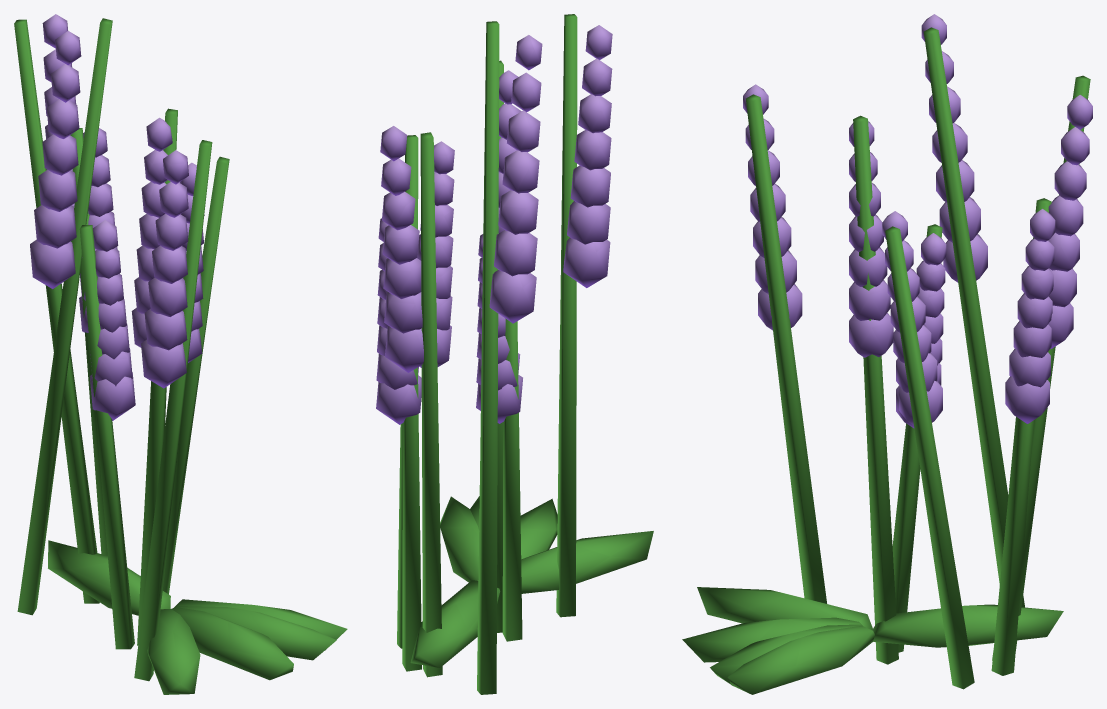
Rendered from flowers_lavender.glb.
3 renders of one model, left to right at view 1: azimuth 30°, elevation 25°; view 2: azimuth 150°, elevation 25°; view 3: azimuth 270°, elevation 25°, orthographic. The views are drawn at different scales.
Visible parts, largest first — view 1: Flowers; view 2: Flowers; view 3: Flowers.
Boxes of the visible parts, x1,y1,x2,y2 form: Flowers: [14, 14, 347, 694]; Flowers: [376, 14, 653, 694]; Flowers: [682, 14, 1092, 694].
Size of the model in its own units: 0.2476 by 0.7332 by 0.4391.
